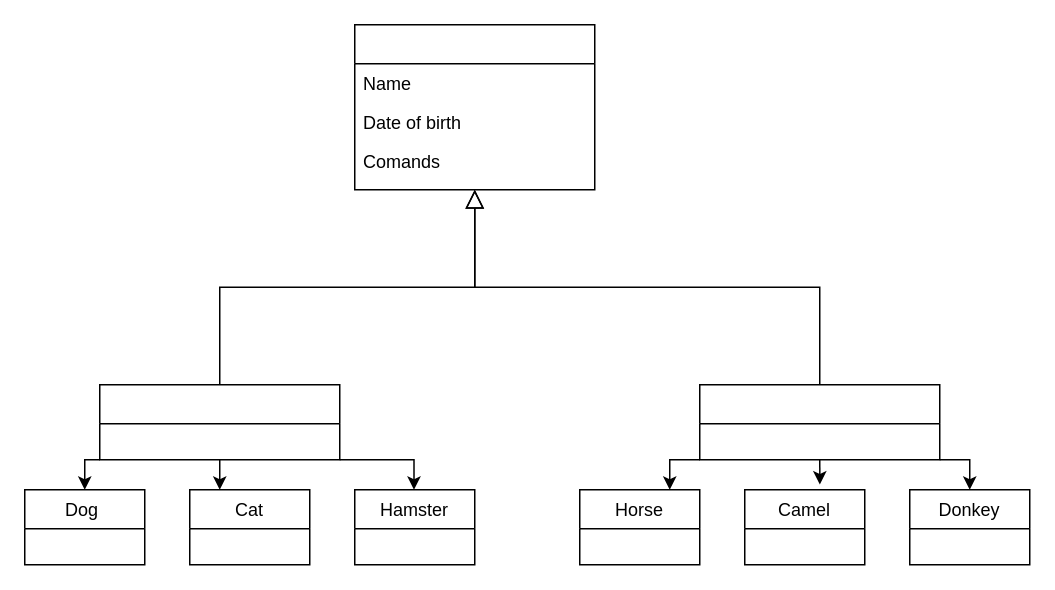
The diagram is 1055 pixels wide and 590 high, and some of its shapes have lost their labels. Each missing label, with the box of its shape:
Animals: (353, 23, 595, 190)
PackAnimals: (698, 383, 940, 460)
Pet: (98, 383, 340, 460)
